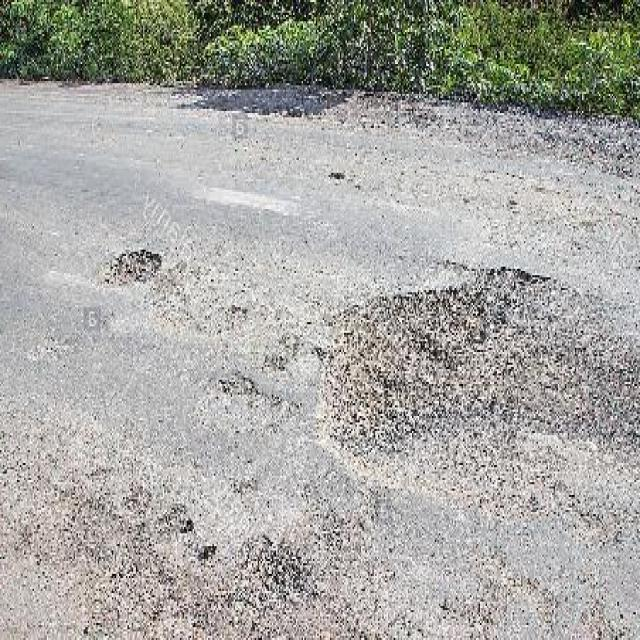buraco: (320, 260, 555, 480), (321, 268, 557, 470), (102, 241, 166, 290), (108, 249, 157, 284), (157, 502, 200, 534), (217, 371, 262, 397), (160, 505, 189, 531), (220, 376, 252, 396), (196, 542, 220, 564), (328, 166, 348, 184), (202, 545, 213, 559), (331, 170, 342, 183)
